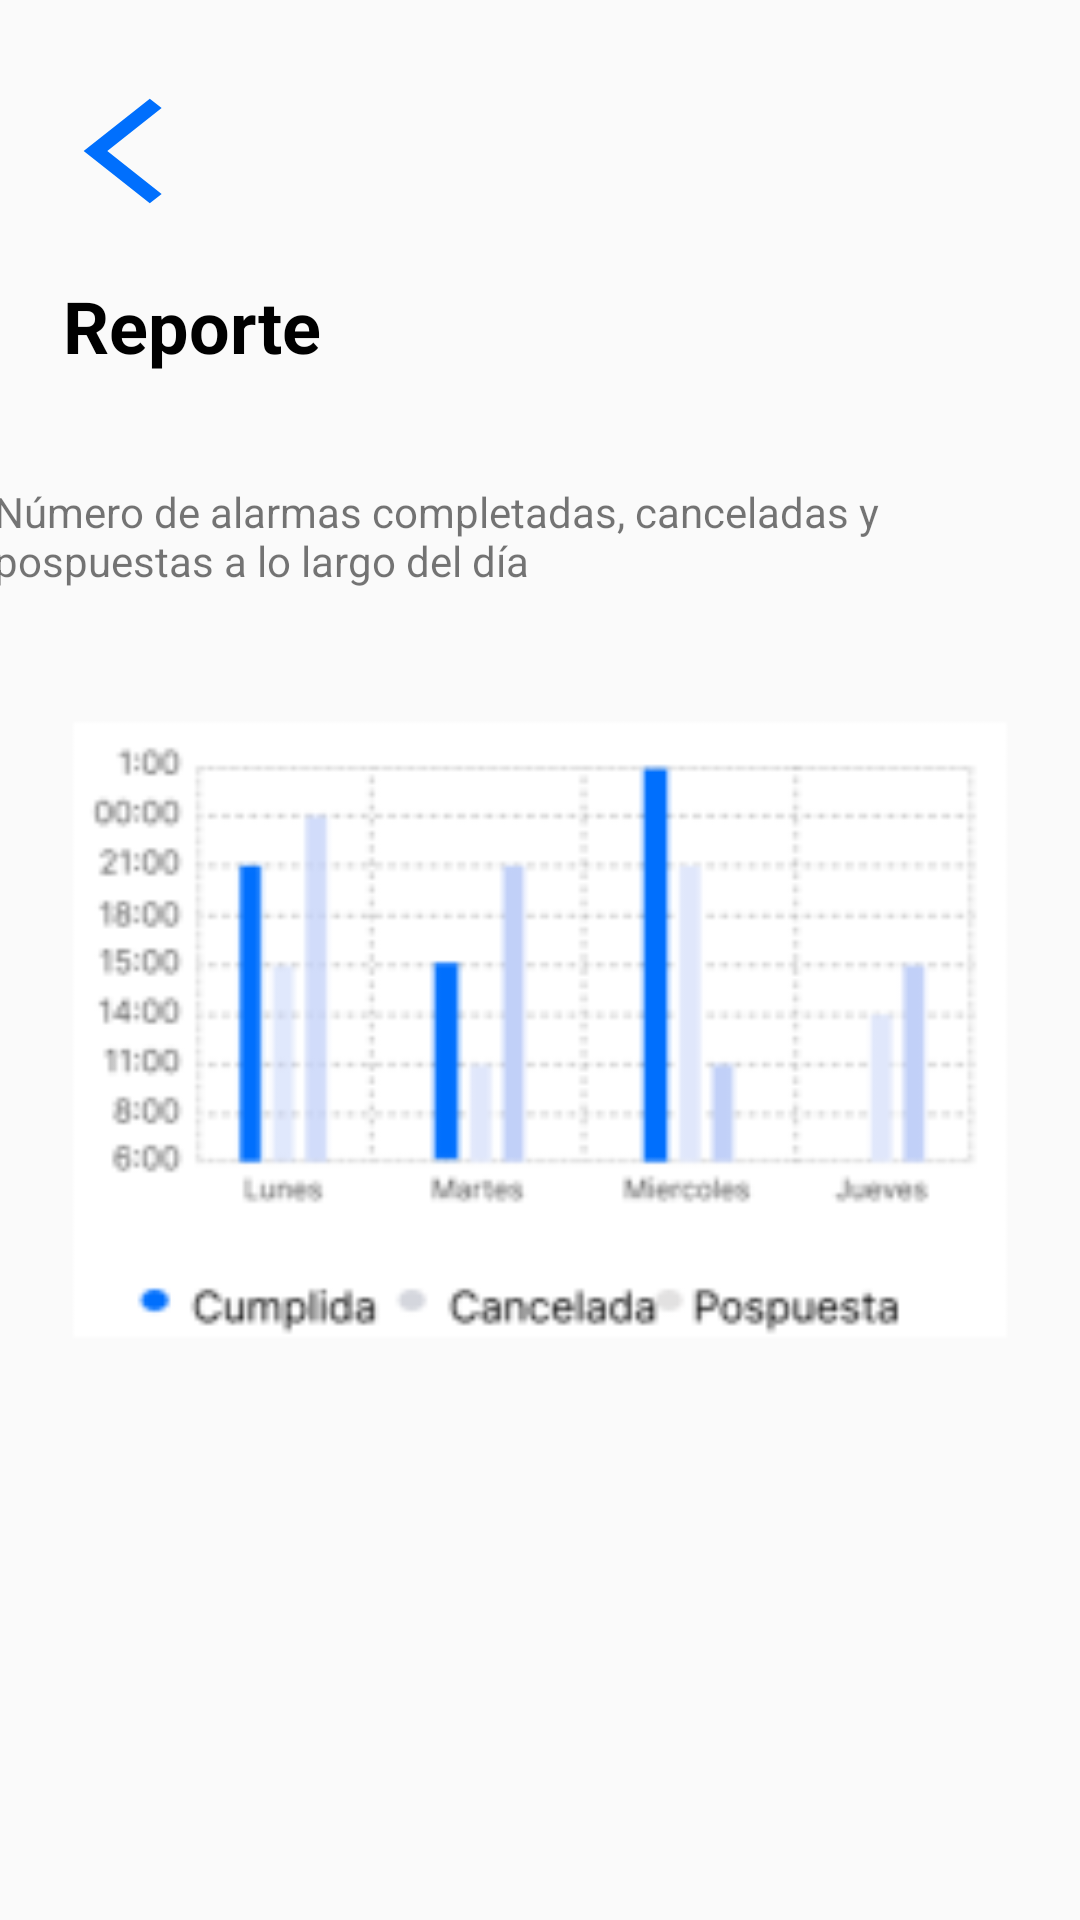

Icon bounding boxes for this 1080px x 1920px phone screenshot, format (x1, y1, x2, y2):
back: (84, 99, 162, 203)
